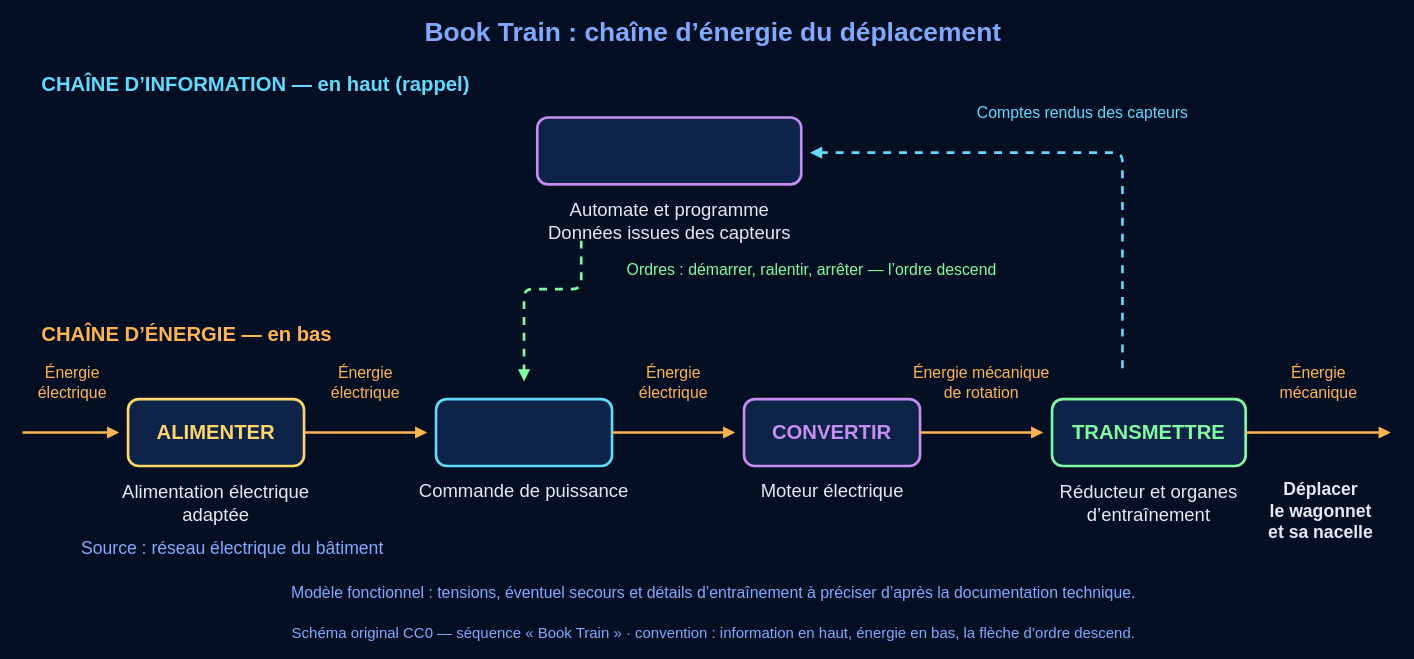
The diagram is 1414 pixels wide and 659 high, and some of its shapes have lost their labels. The box of each missing label's shape, as (x1, y1, x2, y2) in pixels:
DISTRIBUER: (434, 397, 613, 467)
TRAITER: (535, 116, 802, 185)
